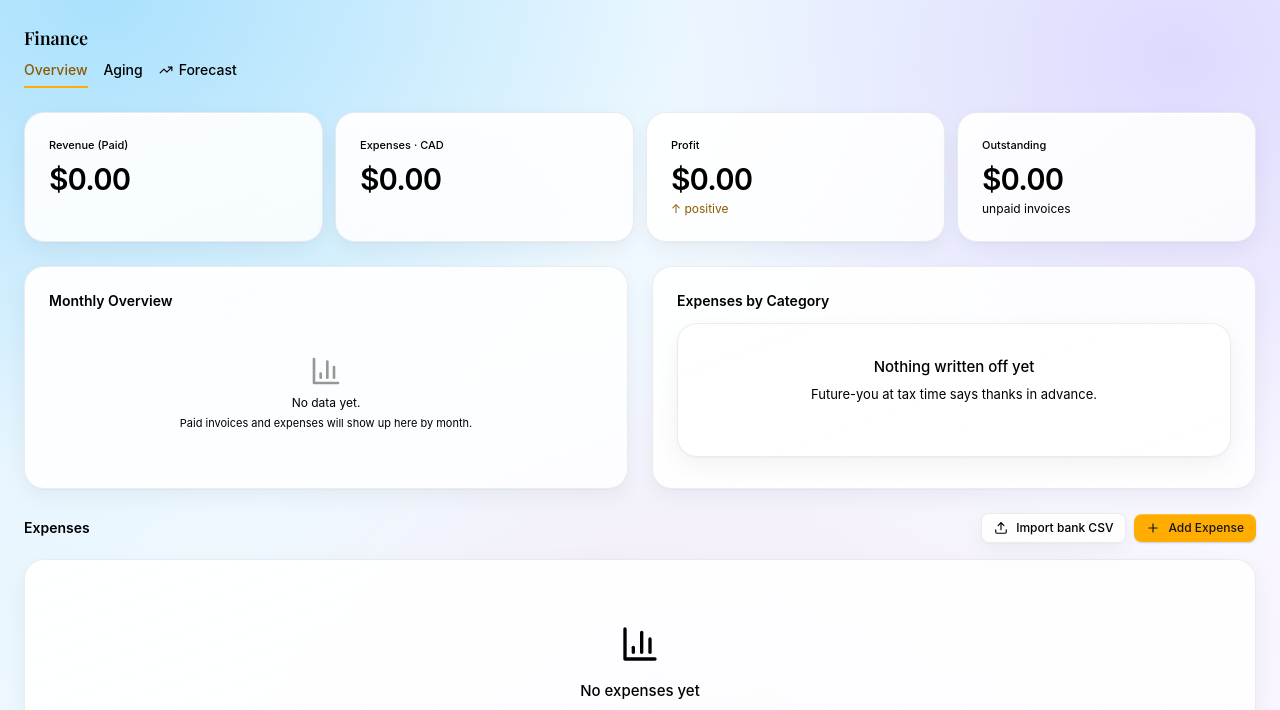
Test: Finance tabs survive the split › aging tab celebrates the empty state
Expected: the button "Overview" is shown, x1=24 y1=60 x2=88 y2=88
Click the button "Aging" at {"x": 123, "y": 74}, box x1=104 y1=60 x2=143 y2=88
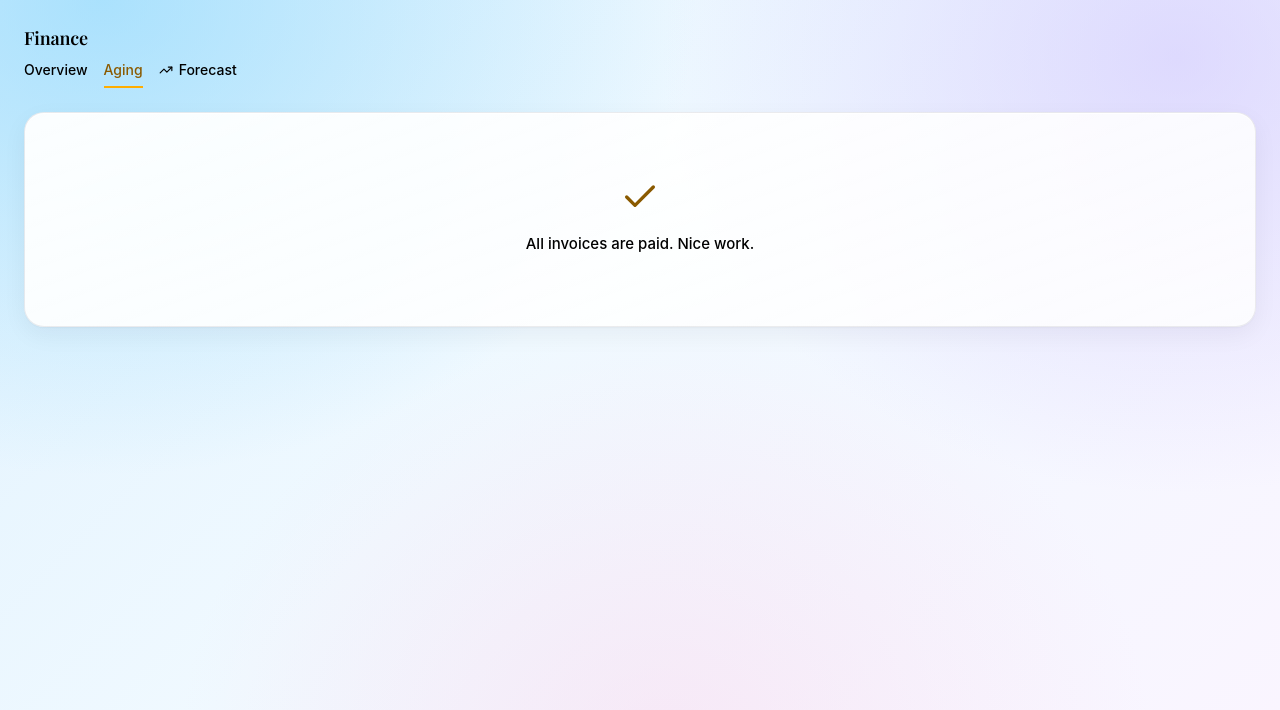
Expected: the heading "All invoices are paid. Nice work." is shown, x1=526 y1=233 x2=754 y2=256
